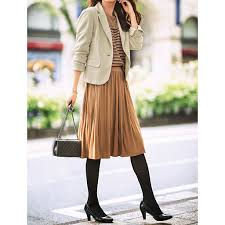C_skirt: (61, 60, 152, 165)
